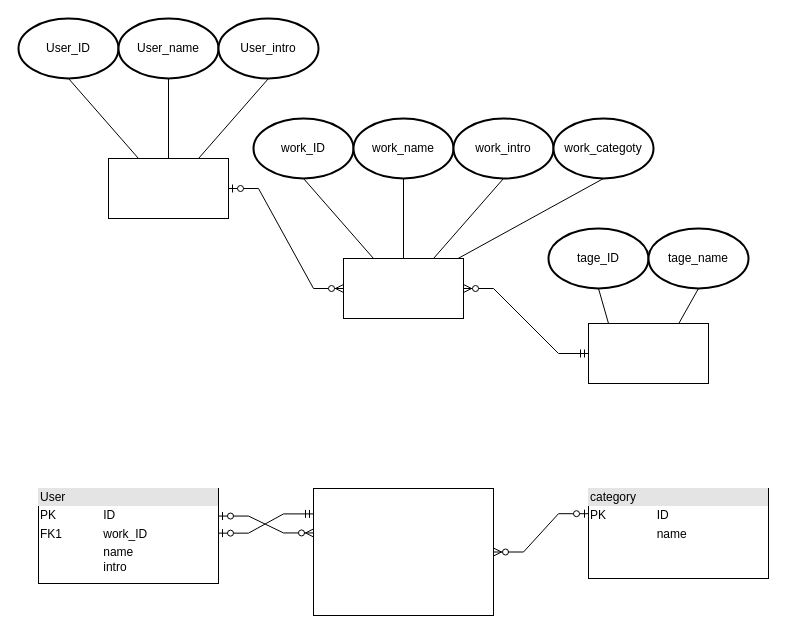
Image size: 786x633. Some labels were removed from this diagram. Here are the shapes that lost their labels. From the top down, the centre of each, then its label:
At (x=168, y=188): "User".
At (x=403, y=288): "work".
At (x=648, y=353): "category".
At (x=403, y=552): "work PK ID FK1 User_ID FK2 tag_ID name intro".
